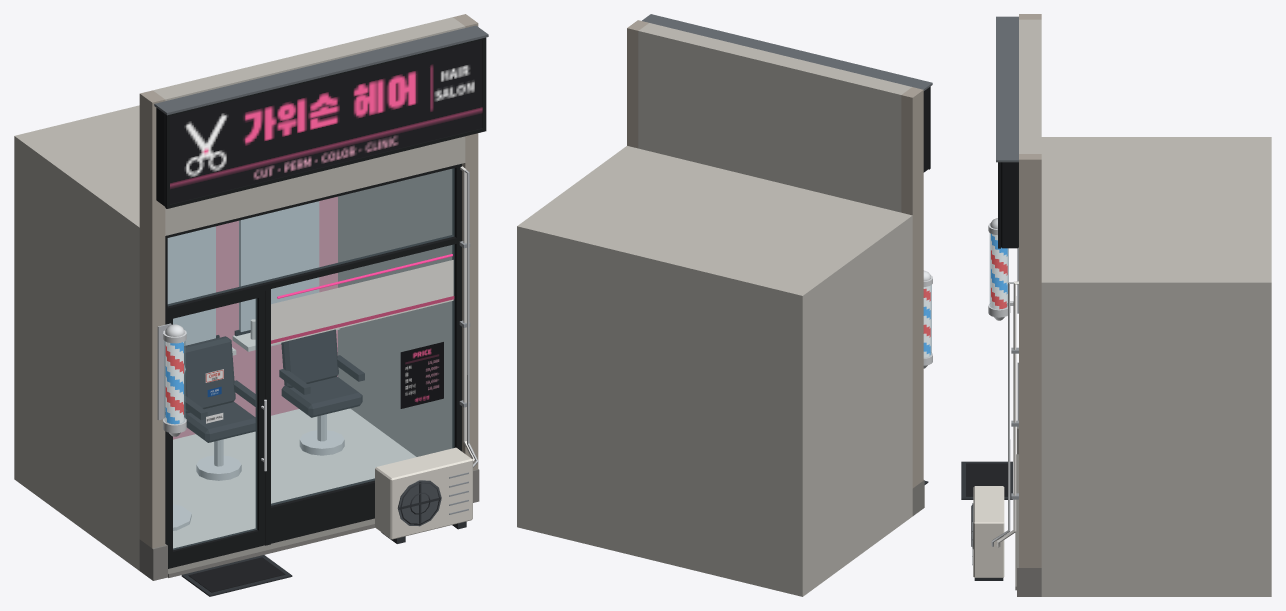
File: SC_Shop_Hair.gltf
3 renders of one model, left to right at view 1: azimuth 30°, elevation 25°; view 2: azimuth 150°, elevation 25°; view 3: azimuth 270°, elevation 25°, orthographic. The views are drawn at different scales.
Parts seen in each view (by area): view 1: SC_Shop_Hair; view 2: SC_Shop_Hair; view 3: SC_Shop_Hair.
Boxes of the visible parts, <box> form: SC_Shop_Hair: <box>14,14,488,596</box>; SC_Shop_Hair: <box>517,14,932,596</box>; SC_Shop_Hair: <box>961,14,1271,596</box>.
Bounding box in the file's own units: 3 × 4.2 × 2.7.
Materials: 5 (5 with a texture image).
